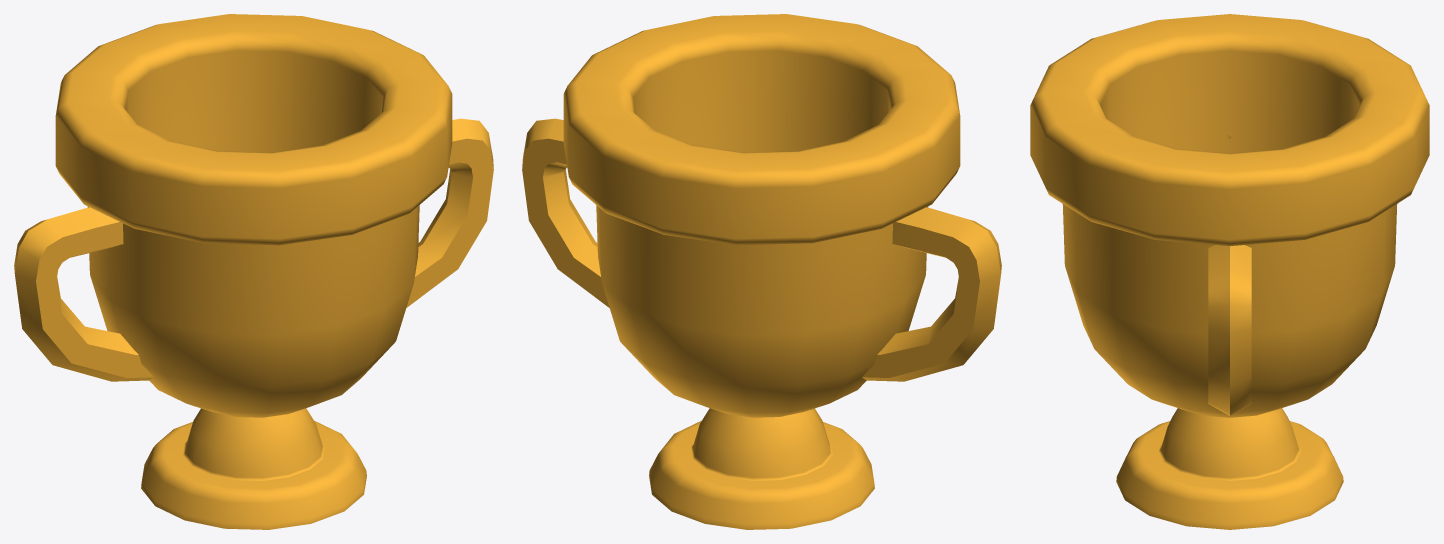
3 views of the same model, side by side, from view 1: azimuth 30°, elevation 25°; view 2: azimuth 150°, elevation 25°; view 3: azimuth 270°, elevation 25° (orthographic).
Parts seen in each view (by area): view 1: model_0.064; view 2: model_0.064; view 3: model_0.064.
Part boxes in pixels (x1,y1,x2,y2): model_0.064: [14, 14, 493, 529]; model_0.064: [522, 14, 1001, 529]; model_0.064: [1030, 14, 1429, 529].
Size of the model in its own units: 4.48 by 3.52 by 3.25.
